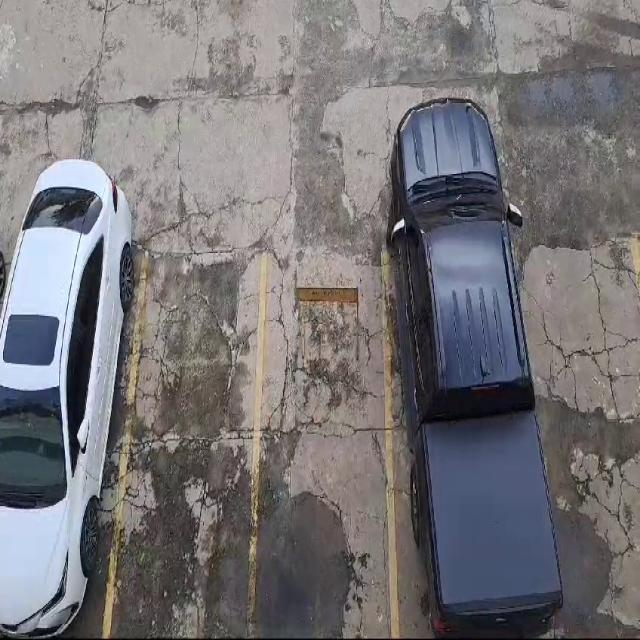empty: (106, 250, 263, 631), (250, 244, 397, 635), (510, 234, 639, 639)
notEmpty: (386, 226, 546, 639), (0, 225, 146, 639)
